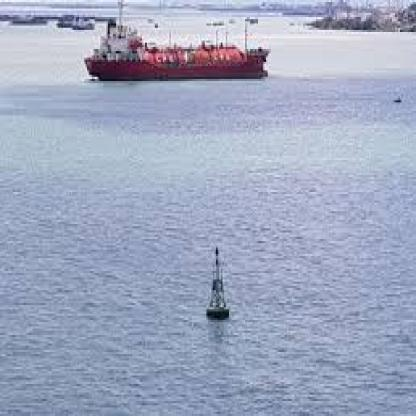buoy: (202, 241, 233, 326)
